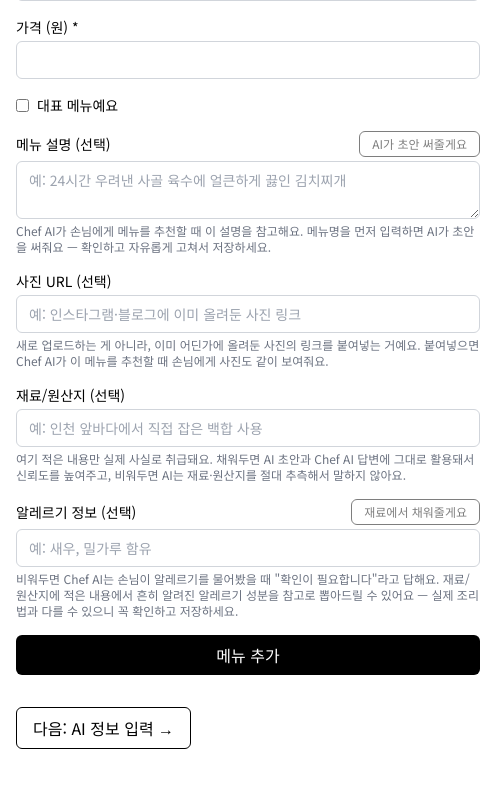
it: MenusPage (smoke) › 재료에 알려진 알레르기 성분이 없으면 못 찾았다고 안내한다(조용히 아무 반응 없는 것처럼 보이지 않게)
(page scrolled)
Type "국내산 흑염소" into the field labelled "재료/원산지" at (248, 428), box [16,409,480,447]
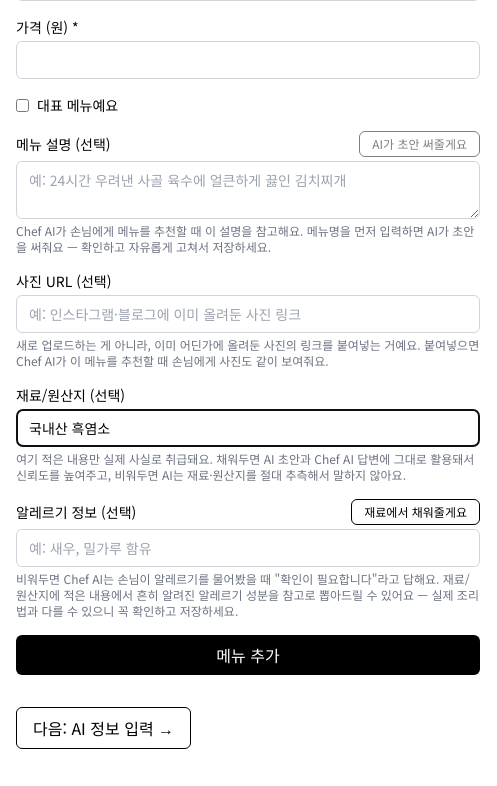
Click the button "재료에서 채워줄게요" at (416, 512), box [351,499,480,525]
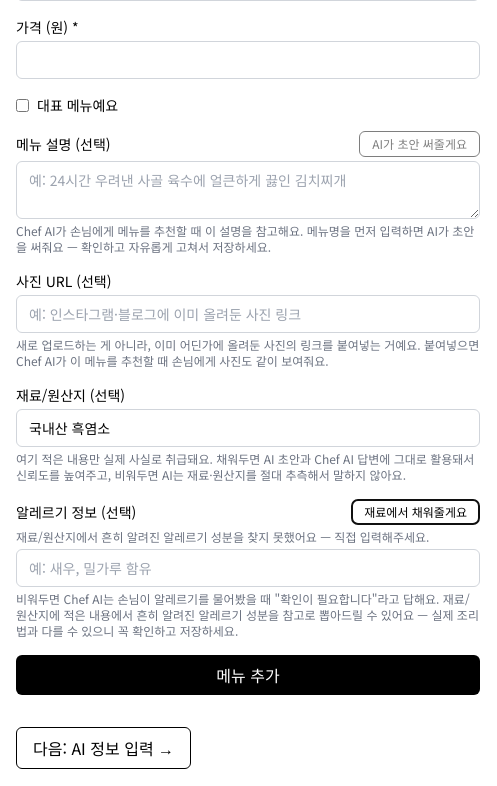
expect the field labelled "알레르기 정보 (선택)" is empty: met, box [16,549,480,587]
expect the text "재료/원산지에서 흔히 알려진 알레르기 성분을 찾지 못했어요 — 직접 입력해주세요." is shown: met, box [16,529,480,545]
